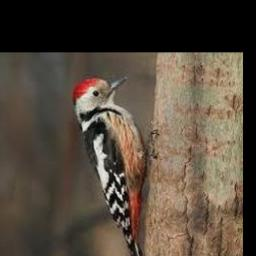Woodpecker: (73, 77, 158, 256)
